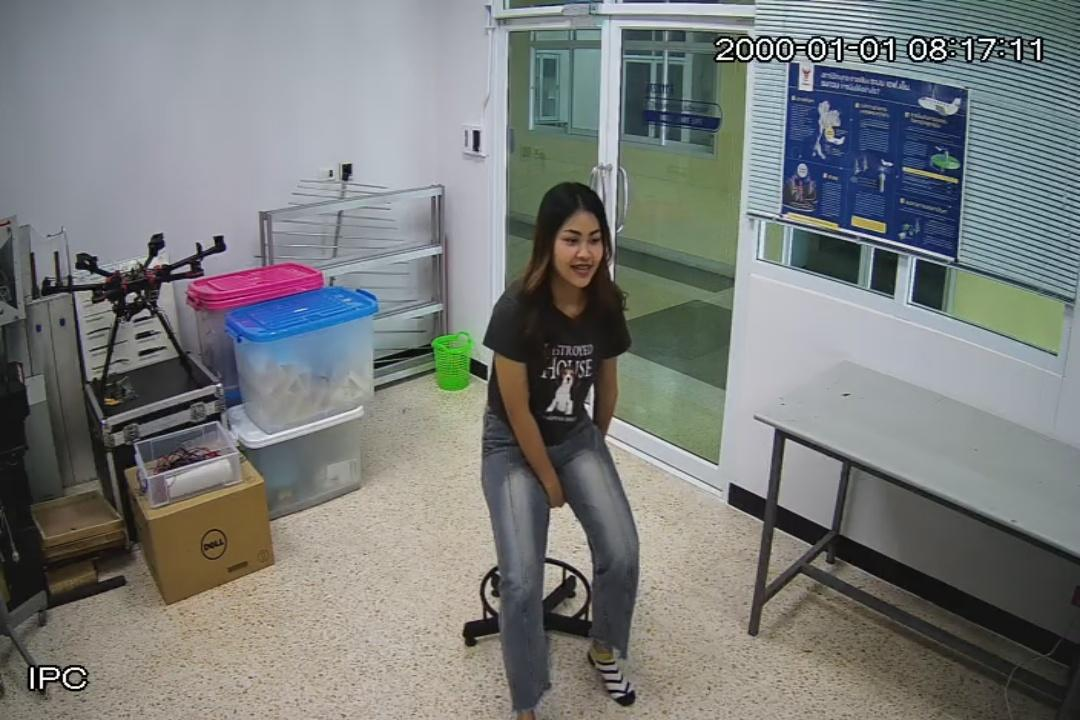normal: (475, 177, 643, 720)
